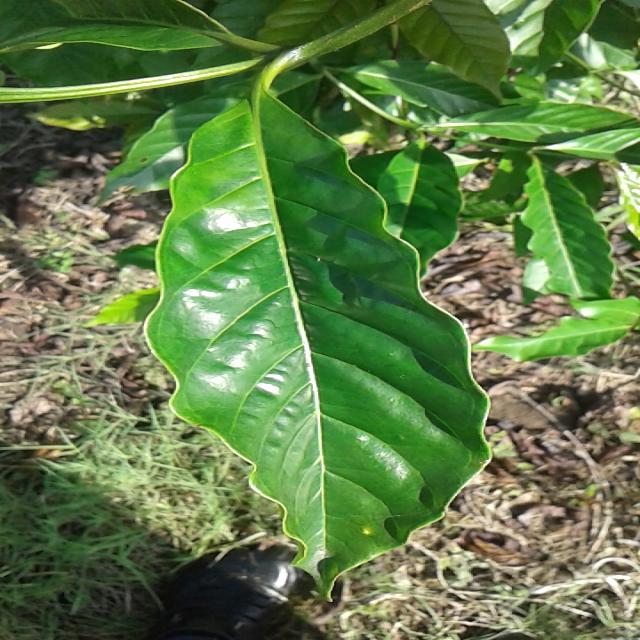Enfermedad-Roya: (108, 88, 491, 600)
